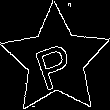P_N: (30, 30, 81, 90)
